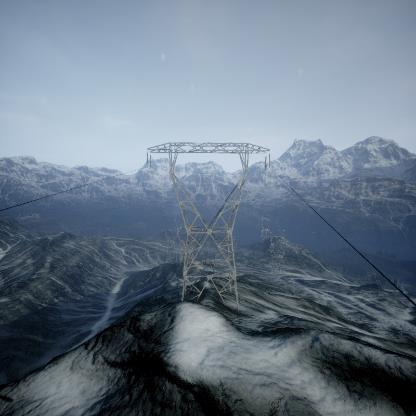tower: (145, 140, 270, 308)
